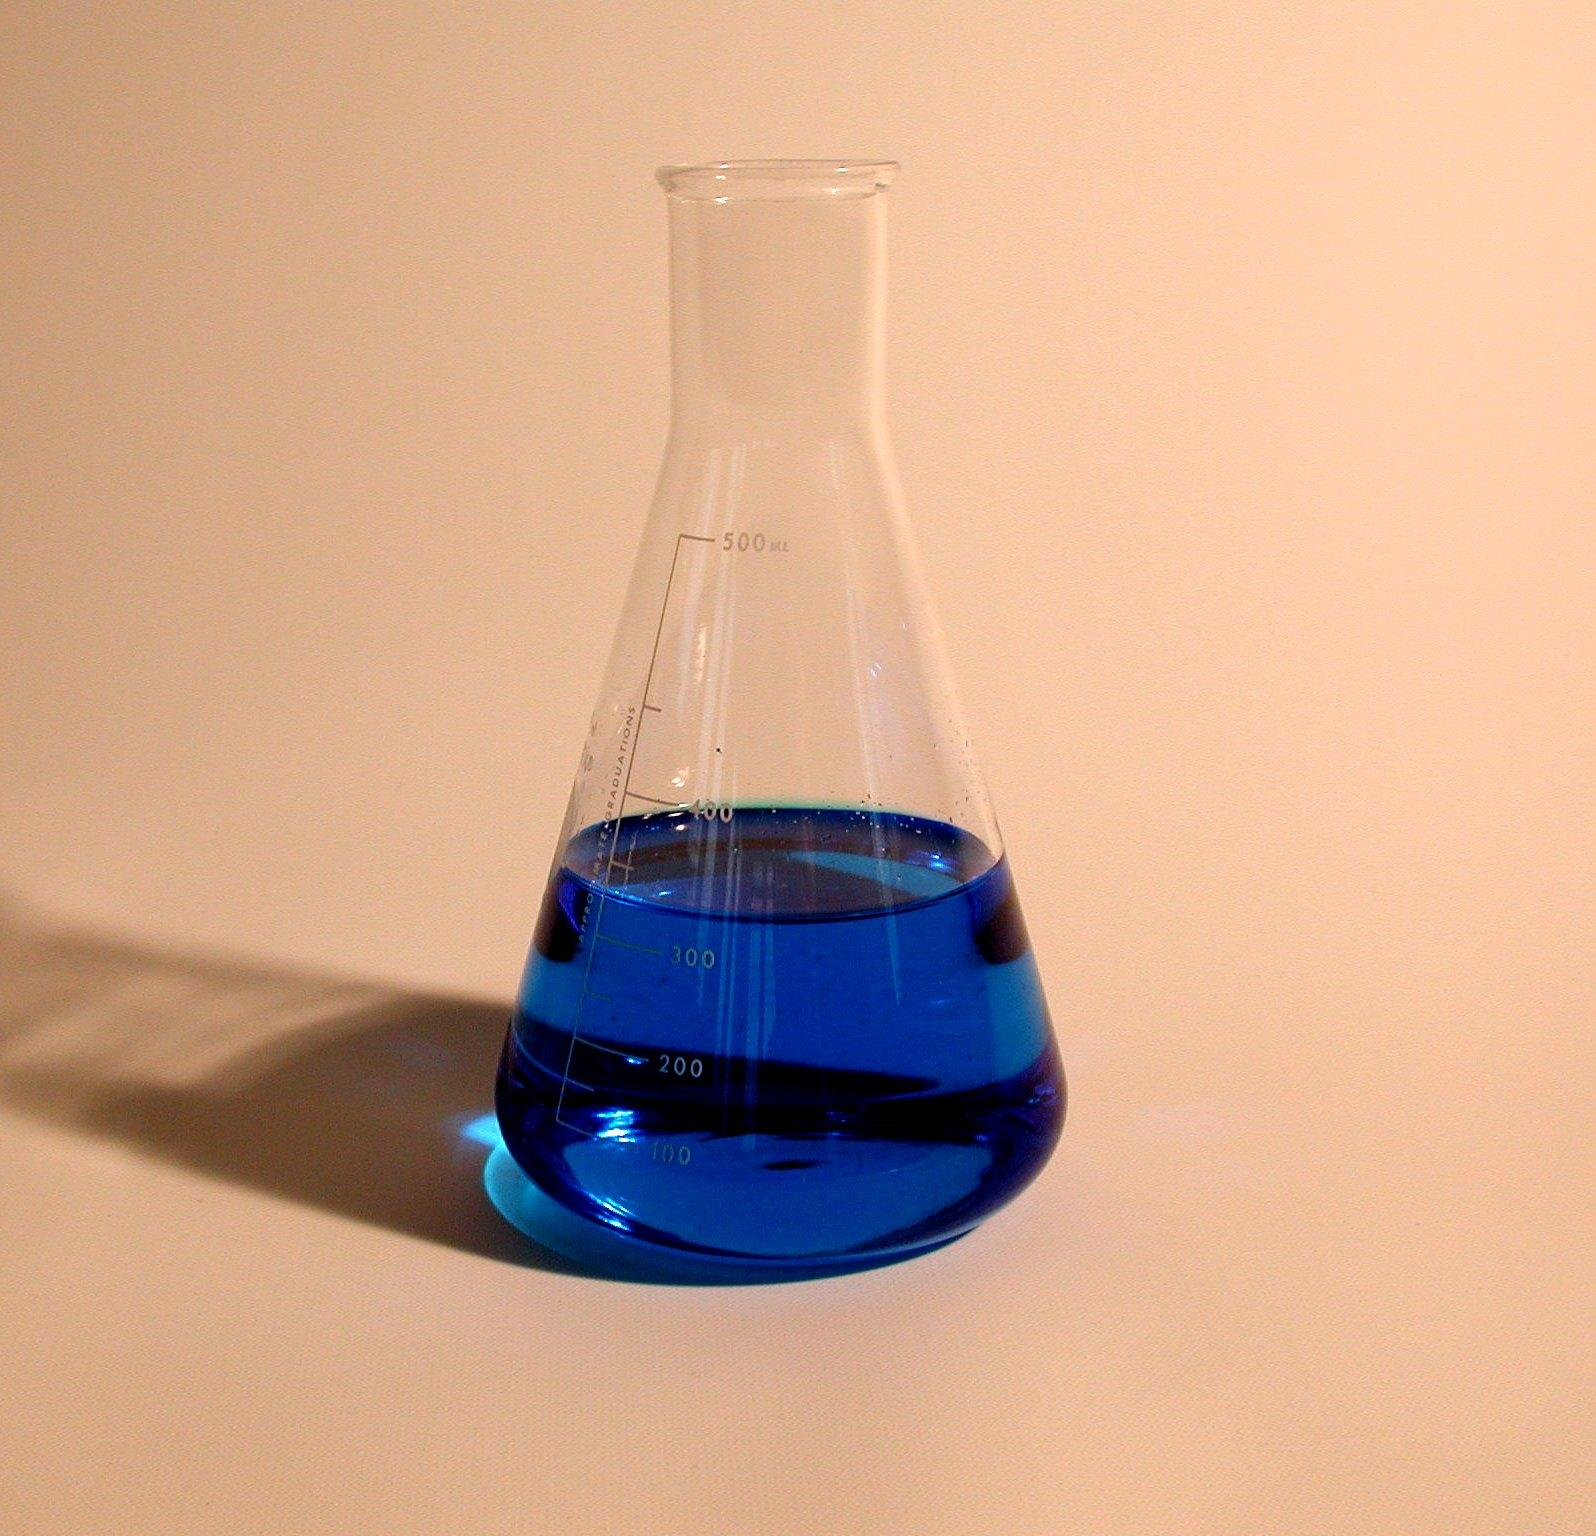Titrarion: (475, 90, 1079, 1265)
